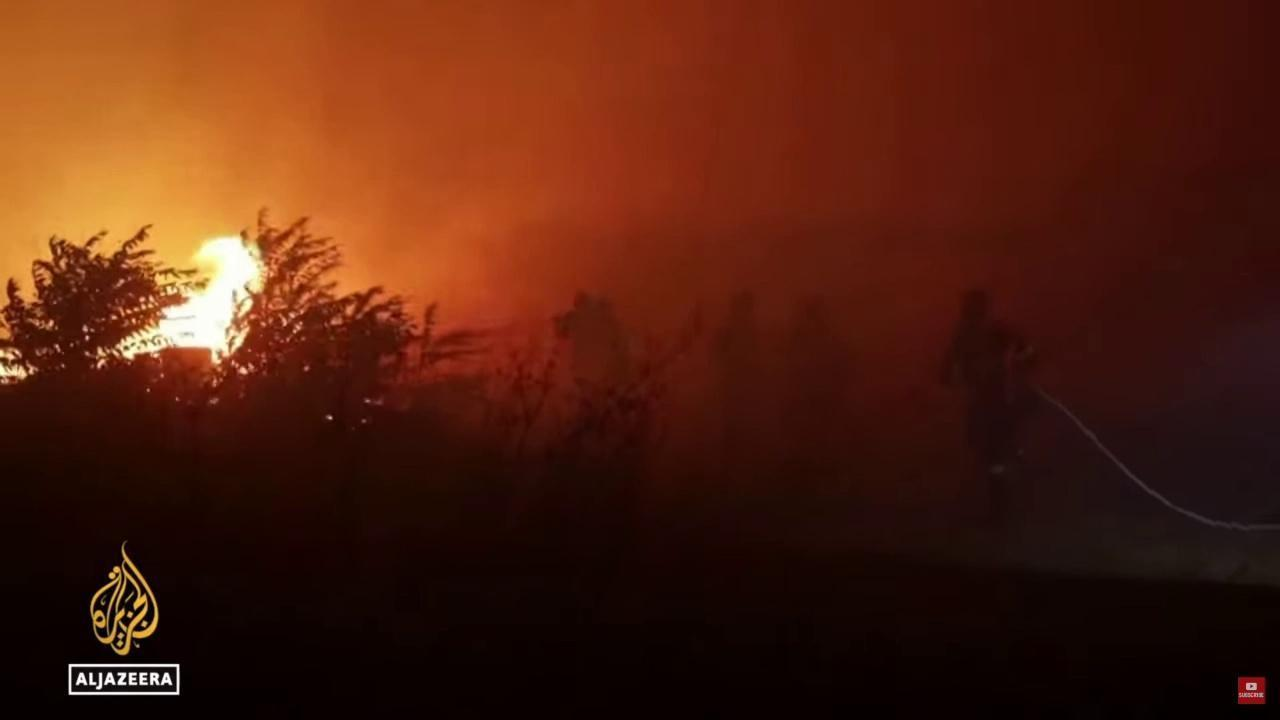fire: (3, 232, 273, 381)
smoke: (0, 0, 1280, 516)
